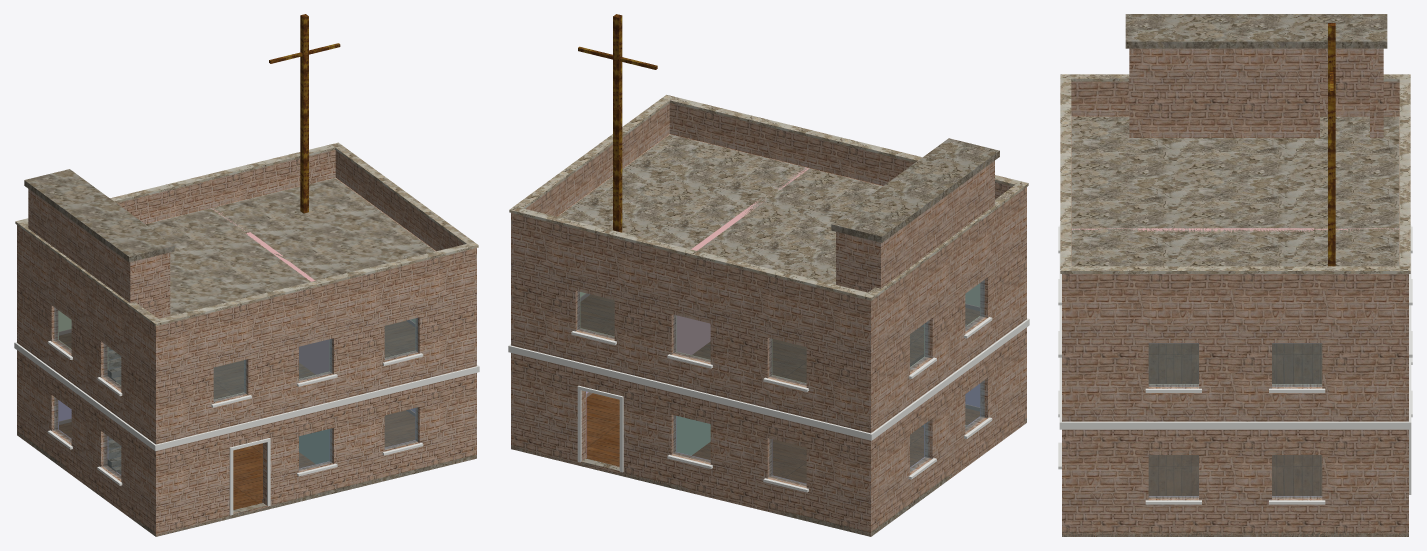
Rendered from harbour-office.loc-v1.lod0.glb.
3 renders of one model, left to right at view 1: azimuth 30°, elevation 25°; view 2: azimuth 150°, elevation 25°; view 3: azimuth 270°, elevation 25°, orthographic. The views are drawn at different scales.
Parts seen in each view (by area): view 1: harbour-office; view 2: harbour-office; view 3: harbour-office.
Part boxes in pixels (bbox=[...]): harbour-office: bbox=[14, 14, 479, 536]; harbour-office: bbox=[508, 14, 1029, 536]; harbour-office: bbox=[1058, 14, 1412, 536].
Bounding box in the file's own units: 12.2 × 13.55 × 9.2.
Materials: 6 (4 with a texture image).
